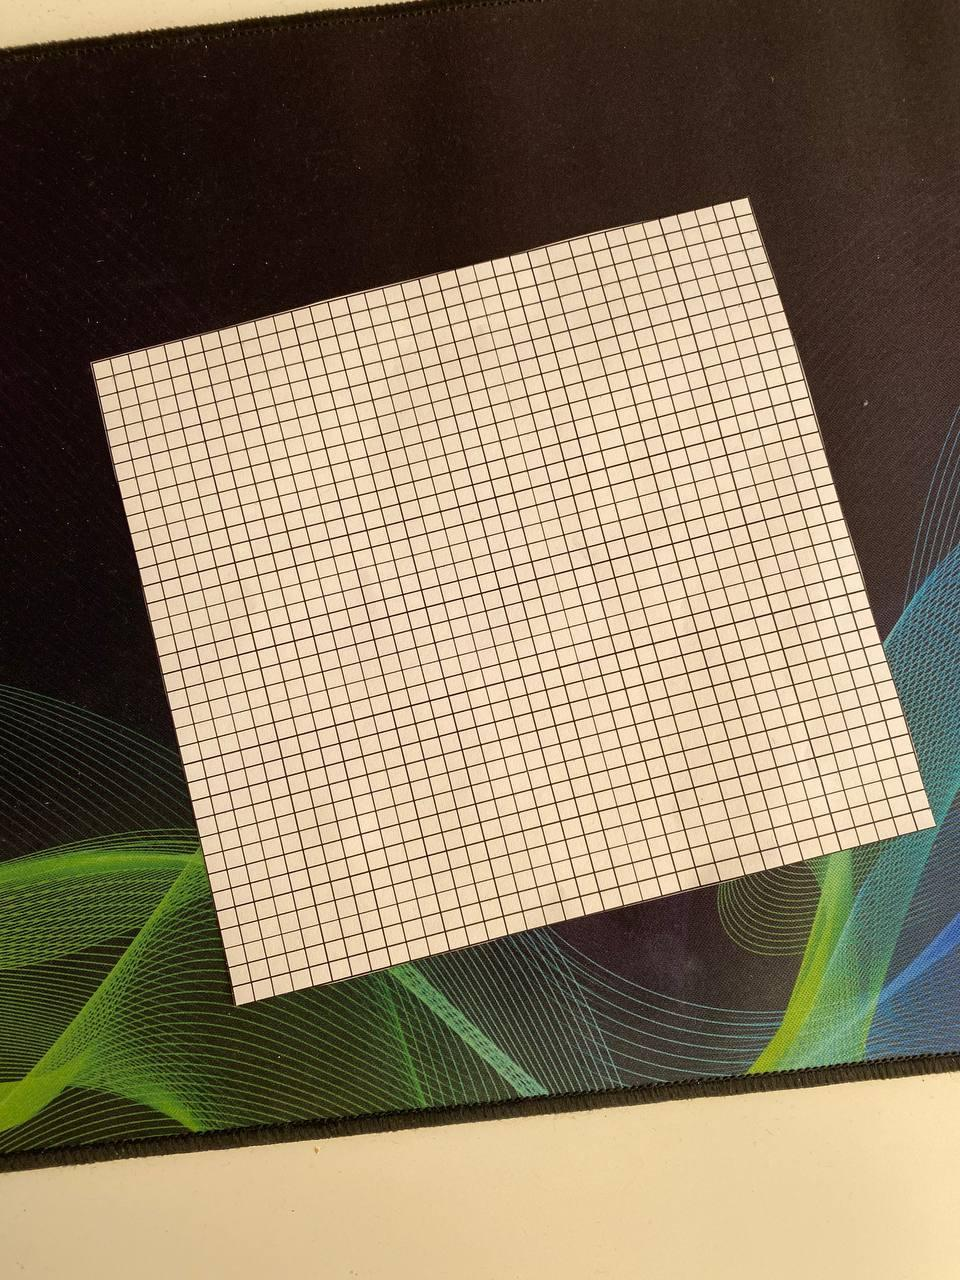grid: (76, 186, 940, 1021)
